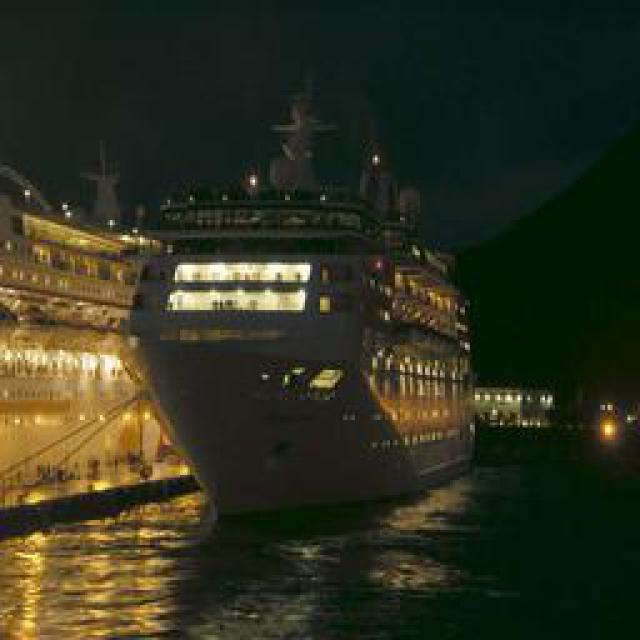Ship: (128, 229, 473, 524)
